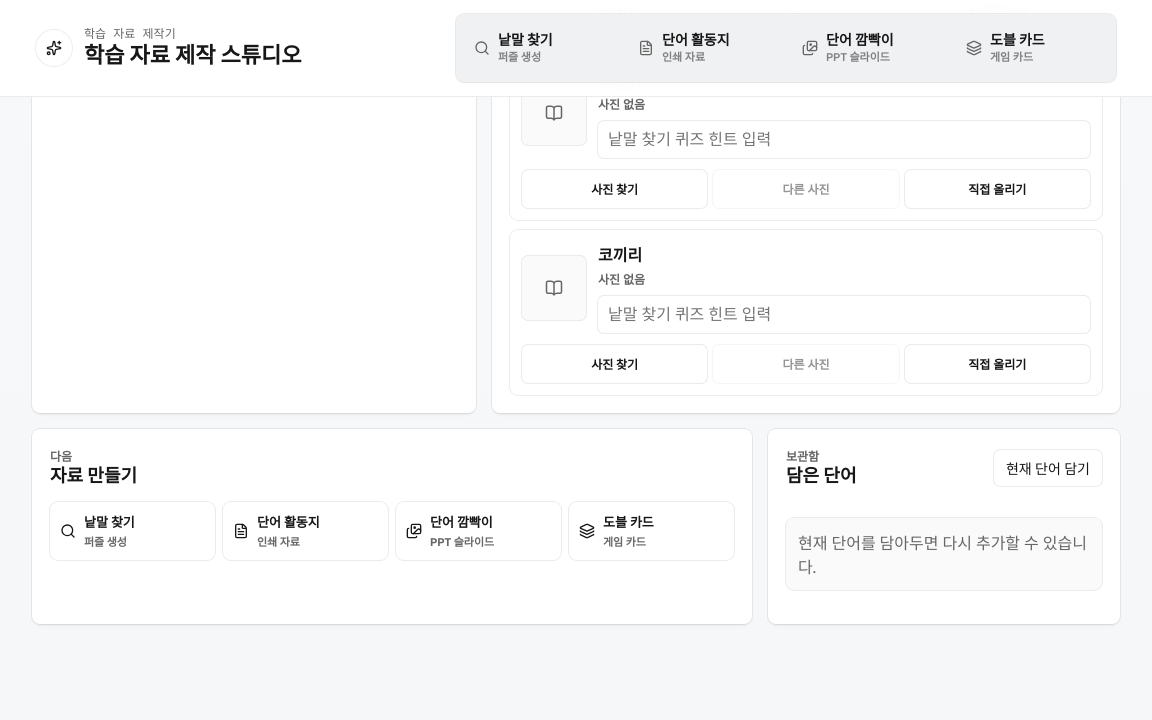
Test: App › orders the word preparation home around the next teacher action
(page scrolled)
Expected: the text "사진 0/6" is not shown
Expected: the button with aria-label "낱말 찾기 만들기" is shown, [50,502,215,560]
Click the button with aria-label "단어 활동지 만들기": (306, 531) [223,502,388,560]
(page scrolled)
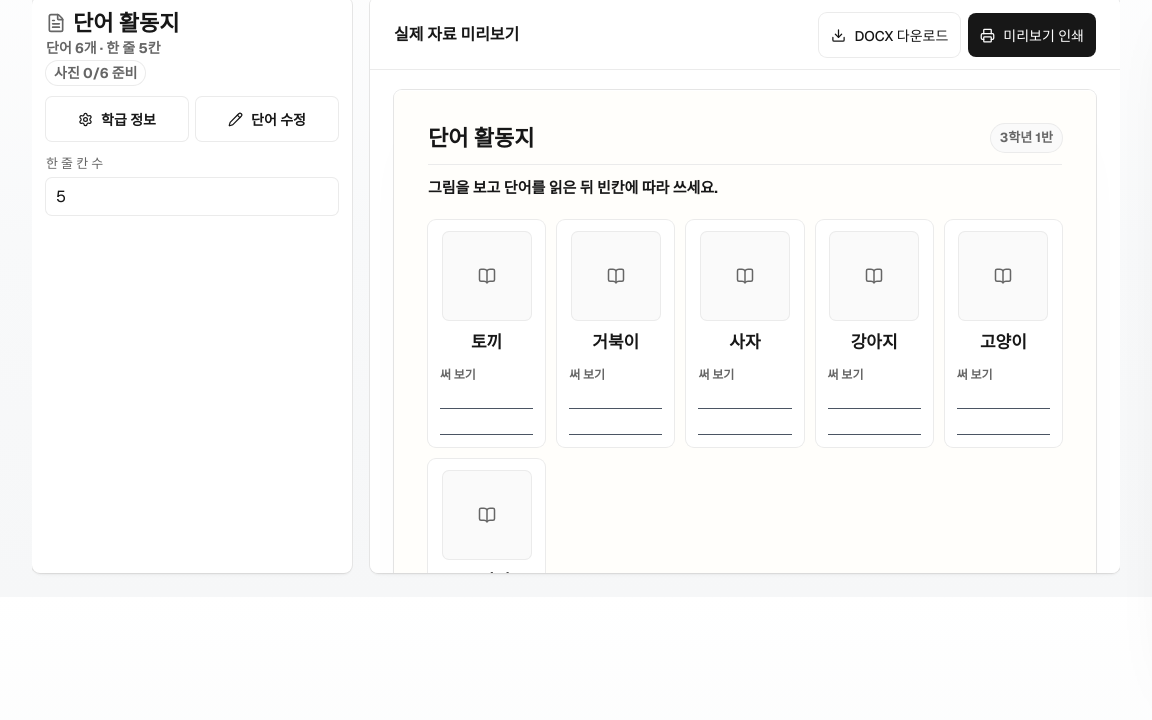
Expected: the heading "단어 활동지" in the row of "학년" is shown, [428,125,534,151]
